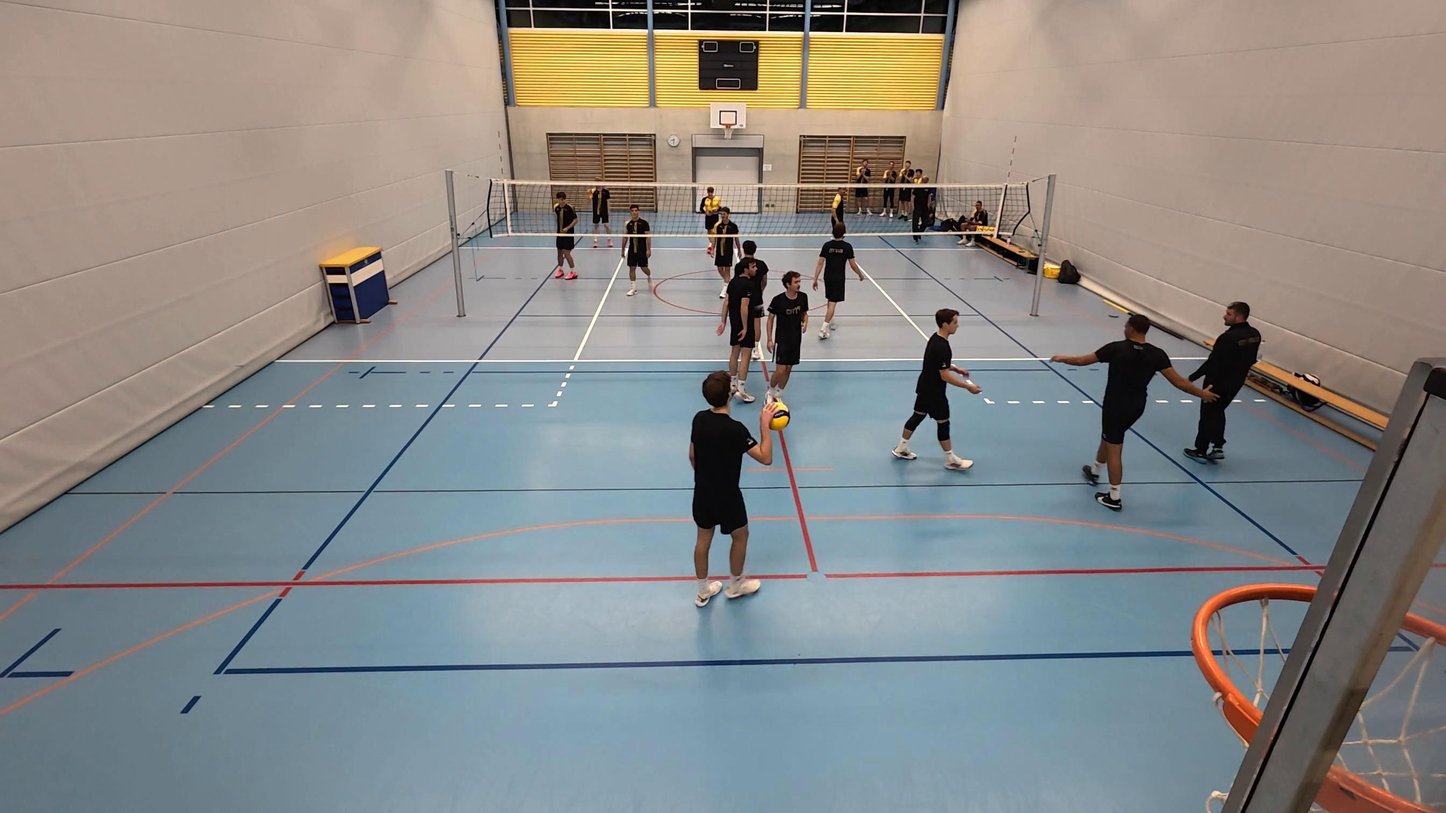Player: (1047, 313, 1222, 511), (685, 371, 782, 609), (891, 308, 981, 472), (763, 270, 813, 425), (718, 264, 764, 402), (811, 222, 861, 340), (706, 204, 739, 296), (621, 206, 653, 296), (552, 190, 579, 281), (588, 180, 613, 247), (698, 185, 720, 245), (828, 188, 847, 229)
ball: (765, 408, 790, 429)
